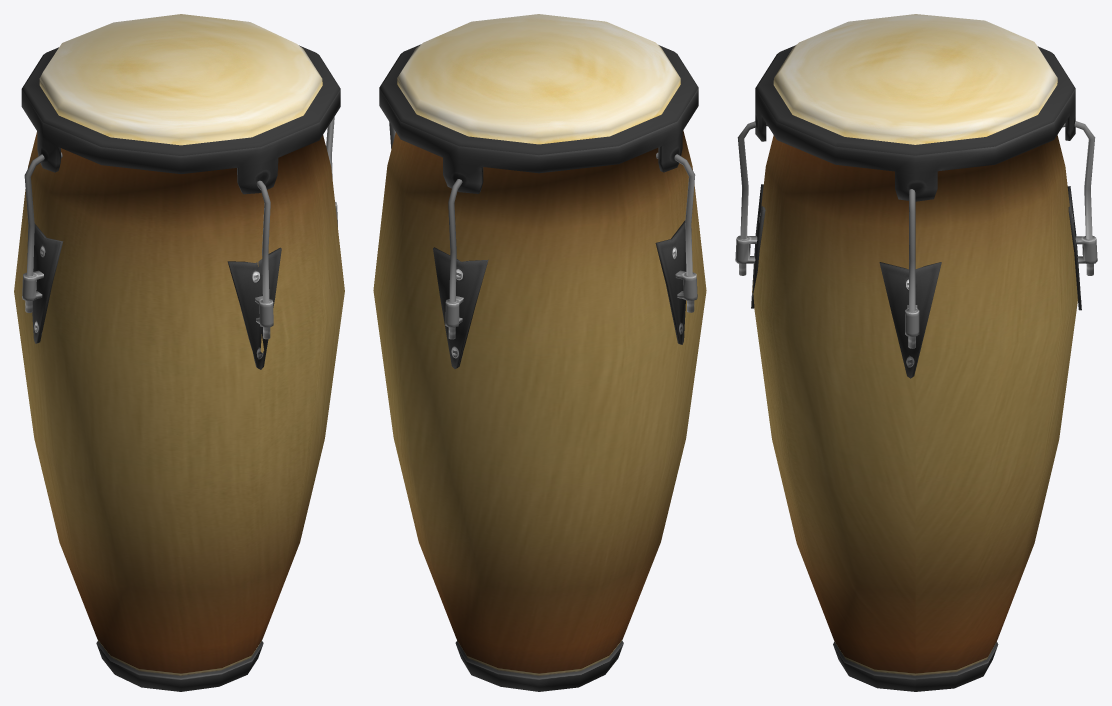
Rendered from conga_drum.glb.
3 views of the same model, side by side, from view 1: azimuth 30°, elevation 25°; view 2: azimuth 150°, elevation 25°; view 3: azimuth 270°, elevation 25° (orthographic).
Visible parts, largest first — view 1: Plane; view 2: Plane; view 3: Plane.
Boxes of the visible parts, bbox=[...] form: Plane: bbox=[14, 14, 344, 691]; Plane: bbox=[373, 14, 706, 691]; Plane: bbox=[735, 14, 1097, 691].
Bounding box in the file's own units: 29.44 × 52.81 × 29.45.
1 material, 1 textured.
